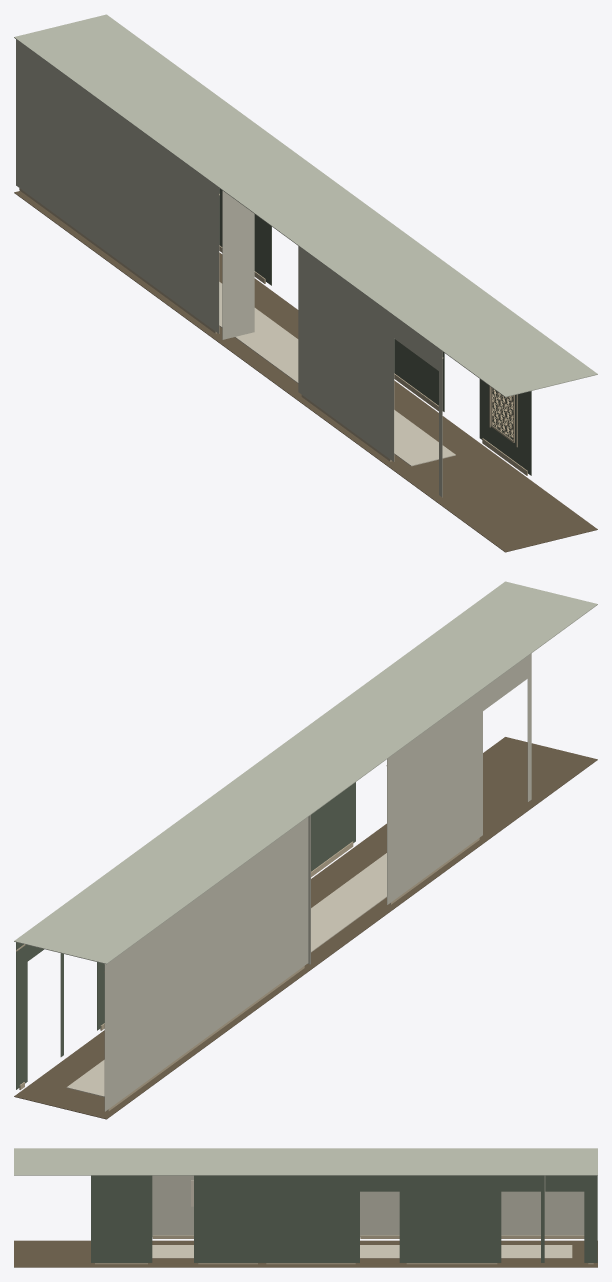
File: corridor-3.glb
3 renders of one model, top to bottom at view 1: azimuth 30°, elevation 25°; view 2: azimuth 150°, elevation 25°; view 3: azimuth 270°, elevation 25°, orthographic. The views are drawn at different scales.
Visible parts, largest first — view 1: DESIGN | Entrance coordinated ceiling, DESIGN | Entrance paired wall finish, DESIGN | Entrance floor finish, DESIGN | Entrance paired wall finish.003, DESIGN | Arch approach finish, DESIGN | Entrance quiet runner, DESIGN | Entrance paired wall finish.013, DESIGN | Entrance paired wall finish.012, DESIGN | Entrance paired wall finish.006, DESIGN | Entrance paired wall finish.002, DESIGN | Kumiko | A pale threshold and one green interval; view 2: DESIGN | Entrance coordinated ceiling, DESIGN | Entrance paired wall finish, DESIGN | Entrance floor finish, DESIGN | Entrance paired wall finish.003, DESIGN | Entrance quiet runner, DESIGN | Entrance paired wall finish.012, DESIGN | Entrance paired wall finish.005, DESIGN | Entrance paired wall finish.002, DESIGN | Entrance paired wall finish.001; view 3: DESIGN | Entrance coordinated ceiling, DESIGN | Entrance paired wall finish.006, DESIGN | Entrance paired wall finish.009, DESIGN | Entrance floor finish, DESIGN | Entrance paired wall finish.012, DESIGN | Entrance paired wall finish, DESIGN | Entrance paired wall finish.013, DESIGN | Entrance paired wall finish.003, DESIGN | Entrance quiet runner, DESIGN | Entrance paired wall finish.005, DESIGN | Entrance paired wall finish.007, DESIGN | Entrance paired wall finish.010 (+5 smaller).
Boxes of the visible parts, bbox=[...] form: DESIGN | Entrance coordinated ceiling: bbox=[14, 14, 597, 397]; DESIGN | Entrance paired wall finish: bbox=[16, 39, 219, 333]; DESIGN | Entrance floor finish: bbox=[14, 191, 597, 552]; DESIGN | Entrance paired wall finish.003: bbox=[298, 246, 394, 461]; DESIGN | Arch approach finish: bbox=[222, 190, 254, 339]; DESIGN | Entrance quiet runner: bbox=[219, 282, 455, 466]; DESIGN | Entrance paired wall finish.013: bbox=[479, 379, 531, 475]; DESIGN | Entrance paired wall finish.012: bbox=[394, 339, 444, 411]; DESIGN | Entrance paired wall finish.006: bbox=[219, 188, 268, 283]; DESIGN | Entrance paired wall finish.002: bbox=[394, 316, 438, 370]; DESIGN | Kumiko | A pale threshold and one green interval: bbox=[490, 387, 514, 442]; DESIGN | Entrance coordinated ceiling: bbox=[14, 581, 597, 964]; DESIGN | Entrance paired wall finish: bbox=[104, 817, 308, 1111]; DESIGN | Entrance floor finish: bbox=[14, 737, 597, 1119]; DESIGN | Entrance paired wall finish.003: bbox=[387, 689, 482, 904]; DESIGN | Entrance quiet runner: bbox=[66, 853, 386, 1096]; DESIGN | Entrance paired wall finish.012: bbox=[311, 782, 355, 871]; DESIGN | Entrance paired wall finish.005: bbox=[16, 942, 27, 1089]; DESIGN | Entrance paired wall finish.002: bbox=[483, 656, 527, 710]; DESIGN | Entrance paired wall finish.001: bbox=[527, 653, 531, 801]; DESIGN | Entrance coordinated ceiling: bbox=[14, 1148, 597, 1175]; DESIGN | Entrance paired wall finish.006: bbox=[402, 1175, 501, 1262]; DESIGN | Entrance paired wall finish.009: bbox=[262, 1175, 359, 1262]; DESIGN | Entrance floor finish: bbox=[14, 1240, 597, 1267]; DESIGN | Entrance paired wall finish.012: bbox=[194, 1175, 262, 1262]; DESIGN | Entrance paired wall finish: bbox=[360, 1176, 584, 1236]; DESIGN | Entrance paired wall finish.013: bbox=[91, 1175, 152, 1262]; DESIGN | Entrance paired wall finish.003: bbox=[152, 1175, 193, 1236]; DESIGN | Entrance quiet runner: bbox=[152, 1245, 572, 1258]; DESIGN | Entrance paired wall finish.005: bbox=[584, 1175, 597, 1262]; DESIGN | Entrance paired wall finish.007: bbox=[501, 1175, 540, 1191]; DESIGN | Entrance paired wall finish.010: bbox=[360, 1175, 399, 1191].
Size of the model in its own units: 1.7 by 2.73 by 15.61.
